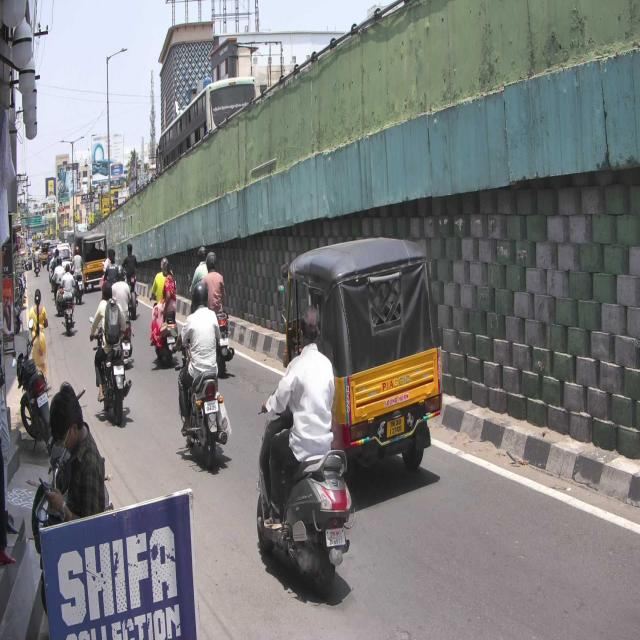single_rider: (254, 305, 357, 598), (170, 281, 230, 469)
